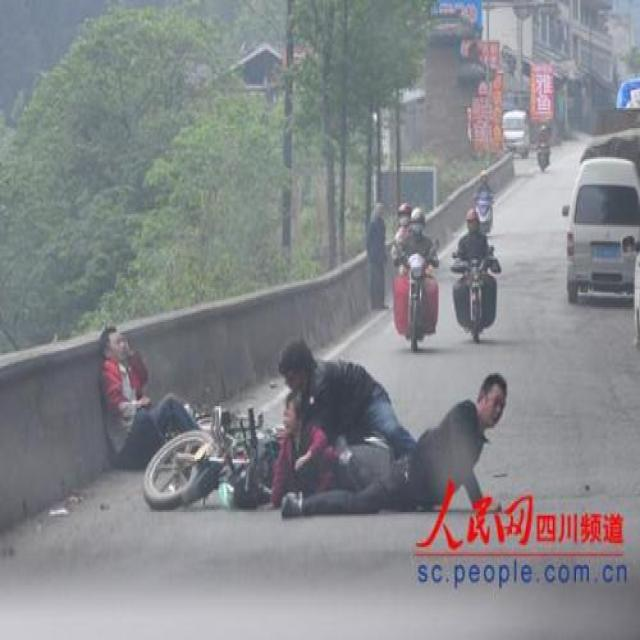fall: (288, 380, 512, 516)
